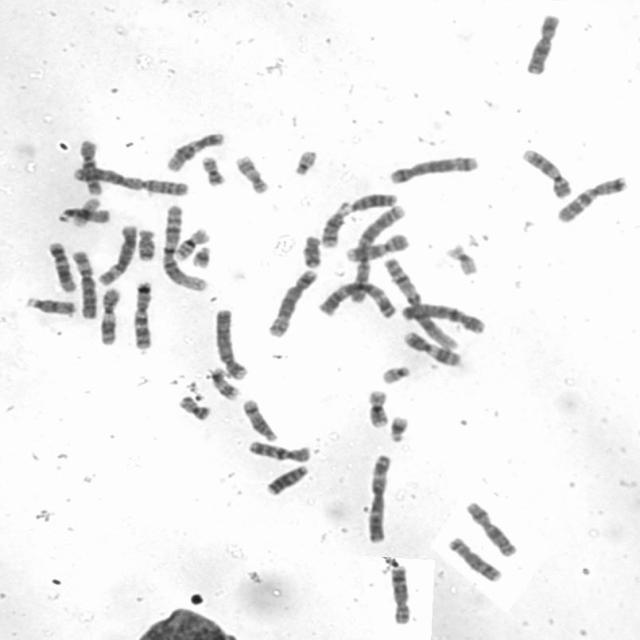A1: (380, 254, 460, 354), (158, 202, 209, 292)
A2: (347, 201, 408, 303), (69, 163, 191, 198)
A3: (314, 278, 398, 320), (362, 451, 393, 544)
B4: (398, 300, 487, 336), (211, 305, 249, 381)
B5: (264, 267, 319, 339), (386, 153, 481, 185)
C10: (75, 136, 104, 197), (245, 438, 313, 463)
C11: (401, 328, 464, 368), (95, 285, 122, 347)
C12: (163, 129, 226, 173), (45, 239, 77, 293)
C6: (95, 221, 139, 287), (68, 247, 98, 322)
C7: (554, 173, 628, 224), (130, 277, 154, 351)
C8: (446, 534, 504, 583), (388, 562, 412, 626)
C9: (519, 145, 573, 199), (342, 231, 410, 262)
D13: (263, 462, 310, 496), (341, 190, 398, 213)
D14: (239, 395, 279, 443), (317, 200, 352, 250)
D15: (55, 204, 113, 226), (23, 295, 79, 317)
E16: (171, 225, 211, 261), (364, 388, 390, 429)
E17: (232, 152, 270, 196), (208, 365, 241, 401)
E18: (299, 233, 324, 269), (134, 226, 158, 262)
F19: (444, 241, 480, 277), (68, 194, 102, 228)
F20: (176, 392, 212, 422), (198, 154, 226, 188)
G21: (386, 413, 409, 443), (189, 243, 213, 270)
G22: (291, 146, 320, 177), (378, 363, 412, 385)
X: (464, 498, 518, 558), (522, 11, 563, 76)
